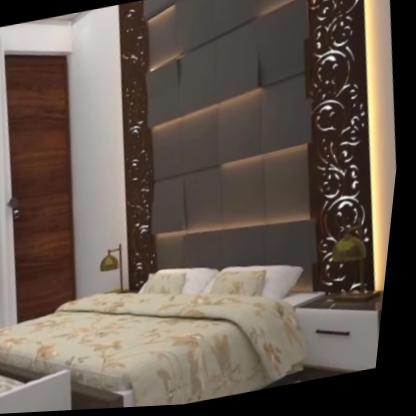Bed: (0, 237, 331, 415)
Lamp: (323, 211, 397, 312), (97, 234, 139, 301)
Nightstand: (289, 281, 392, 387)
